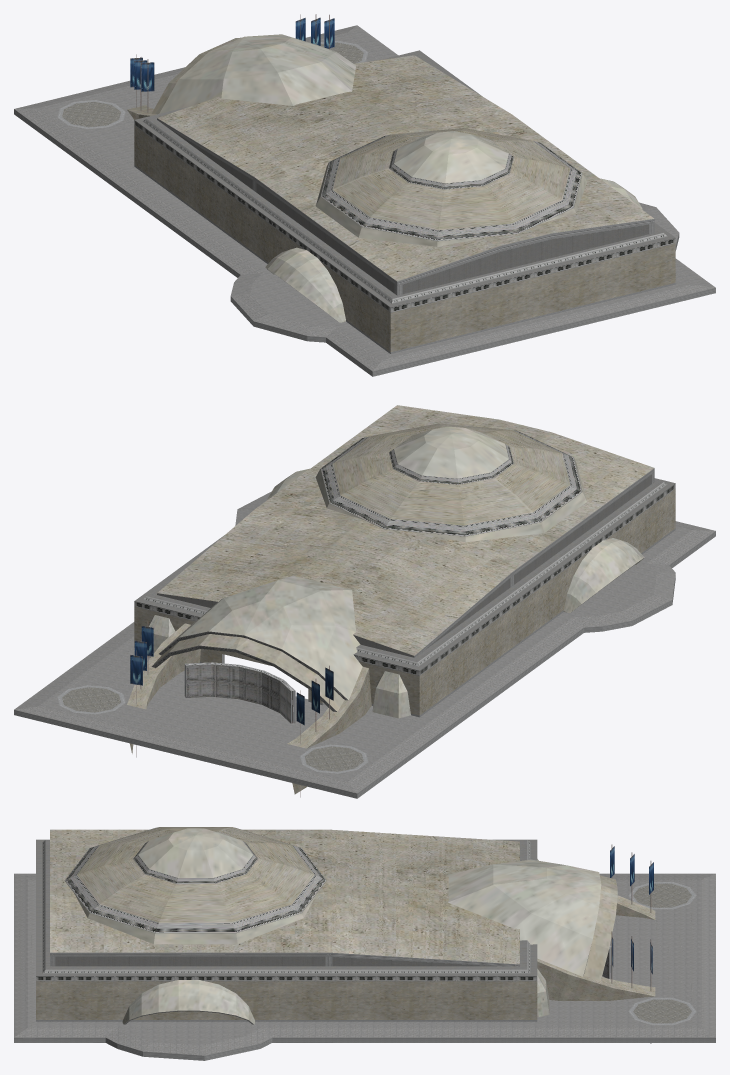
The model's file is mun_all_guild_theater_s01_r0_mesh_l2.fbx.
3 views of the same model, one above another, from view 1: azimuth 30°, elevation 25°; view 2: azimuth 150°, elevation 25°; view 3: azimuth 270°, elevation 25° (orthographic). The views are drawn at different scales.
Parts seen in each view (by area): view 1: mesh_node; view 2: mesh_node; view 3: mesh_node.
Part boxes in pixels (x1,y1,x2,y2): mesh_node: [14, 14, 715, 376]; mesh_node: [14, 405, 715, 798]; mesh_node: [14, 827, 715, 1060].
Bounding box in the file's own units: 81.75 × 32.27 × 121.
